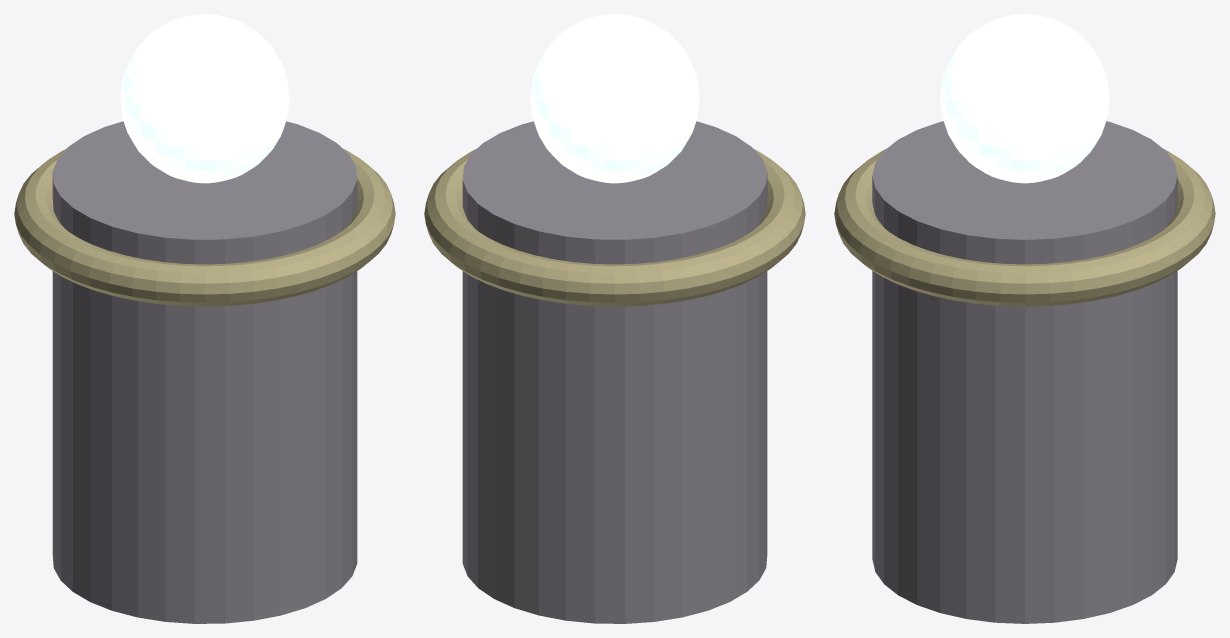
The model's file is heal_prop.glb.
3 renders of one model, left to right at view 1: azimuth 30°, elevation 25°; view 2: azimuth 150°, elevation 25°; view 3: azimuth 270°, elevation 25°, orthographic.
Visible parts, largest first — view 1: HealPedestal, HealPropOrb, HealPedestalRing; view 2: HealPedestal, HealPropOrb, HealPedestalRing; view 3: HealPedestal, HealPropOrb, HealPedestalRing.
Boxes of the visible parts, <box> form: HealPedestal: <box>52,121,357,623</box>; HealPropOrb: <box>120,14,289,183</box>; HealPedestalRing: <box>14,148,395,306</box>; HealPedestal: <box>462,121,767,623</box>; HealPropOrb: <box>530,14,699,183</box>; HealPedestalRing: <box>424,148,805,306</box>; HealPedestal: <box>872,121,1177,623</box>; HealPropOrb: <box>940,14,1109,183</box>; HealPedestalRing: <box>834,149,1215,306</box>.
Bounding box in the file's own units: 0.45 × 0.7 × 0.45.
